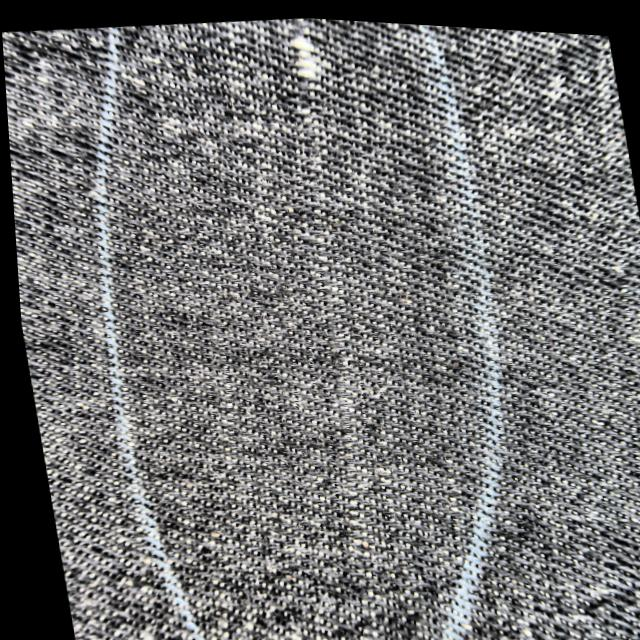Hole: (281, 21, 324, 77)
